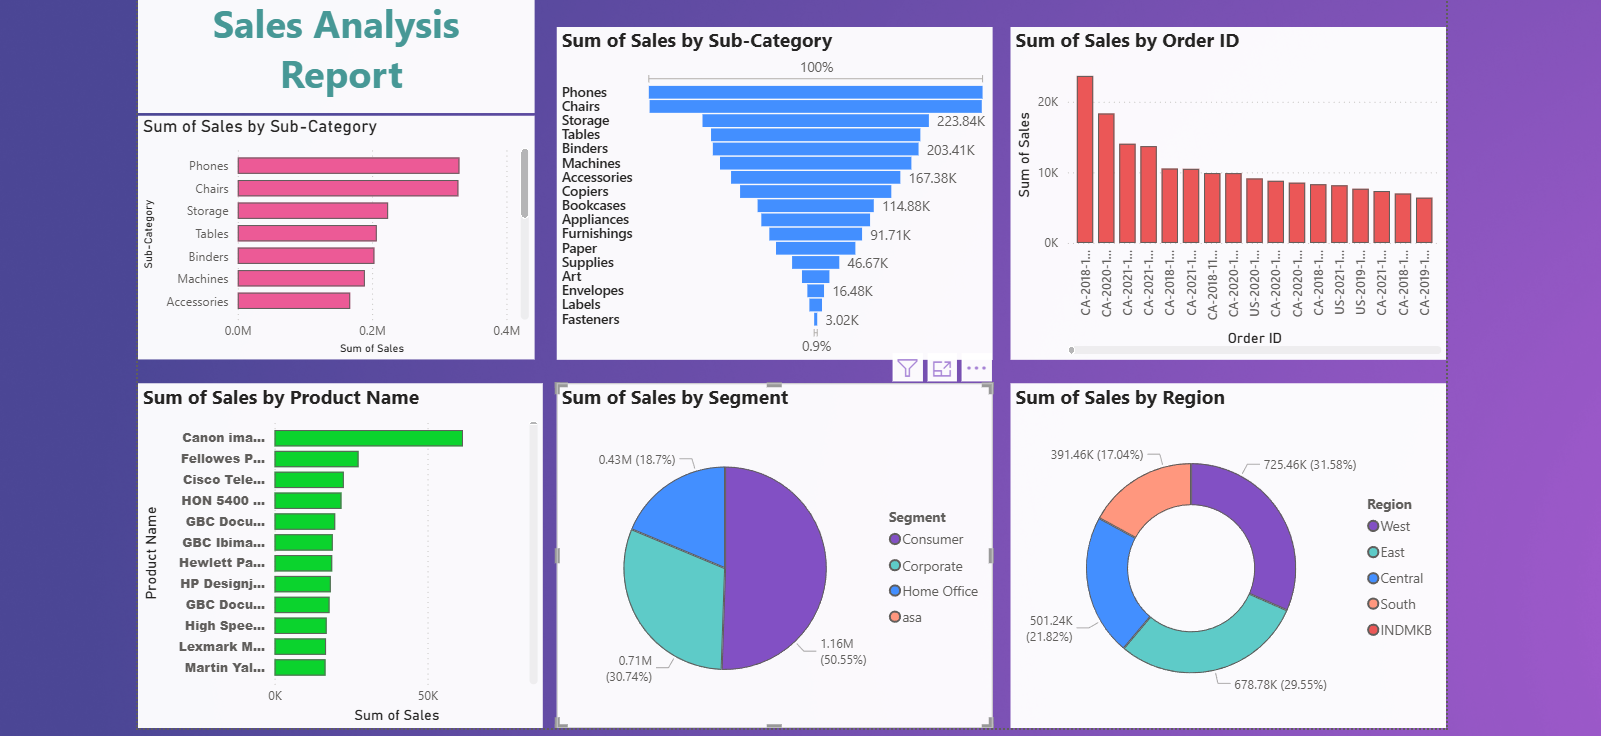

The dashboard page shown, as its layout file describes it:
{"tool":"powerbi","page":{"name":"Page 1","canvas":[1280,720],"ordinal":0},"visuals":[{"type":"donutChart","fields":{"Category":["Orders.Region"],"Y":["Sum(Orders.Sales)"]},"box":[853.5,382.7,426.8,337.5],"z":0},{"type":"funnel","fields":{"Category":["Orders.Sub-Category"],"Y":["Sum(Orders.Sales)"]},"box":[409.6,34.2,426.8,325.3],"z":1000},{"type":"pieChart","fields":{"Y":["Sum(Orders.Sales)"],"Category":["Orders.Segment"]},"box":[409.6,382.7,426.8,337.5],"z":2000},{"type":"clusteredColumnChart","fields":{"Category":["Orders.Order ID"],"Y":["Sum(Orders.Sales)"]},"box":[853.5,34.2,426.8,325.3],"z":3000},{"type":"barChart","fields":{"Category":["Orders.Product Name"],"Y":["Sum(Orders.Sales)"]},"box":[0,382.7,396.2,337.5],"z":4000},{"type":"textbox","box":[0,0,387.6,118.6],"z":5000},{"type":"clusteredBarChart","fields":{"Y":["Sum(Orders.Sales)"],"Category":["Orders.Sub-Category"]},"box":[0,121.1,387.6,238.5],"z":6000}]}

Visuals, with their boxes in screenshot pixels (x1, y1, x2, y2):
donutChart - Orders.Region x Sum(Orders.Sales): [1004, 383, 1436, 724]
funnel - Orders.Sub-Category x Sum(Orders.Sales): [556, 30, 987, 359]
pieChart - Sum(Orders.Sales) x Orders.Segment: [556, 383, 987, 724]
clusteredColumnChart - Orders.Order ID x Sum(Orders.Sales): [1004, 30, 1436, 359]
barChart - Orders.Product Name x Sum(Orders.Sales): [142, 383, 542, 724]
textbox: [142, 0, 534, 116]
clusteredBarChart - Sum(Orders.Sales) x Orders.Sub-Category: [142, 118, 534, 359]
